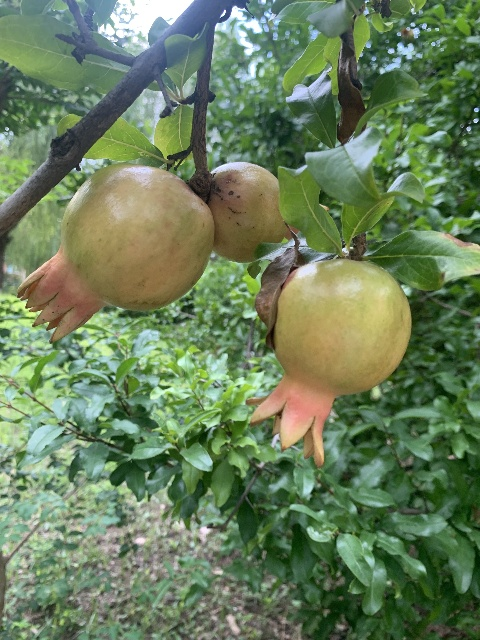mid-growth: (17, 162, 215, 344), (245, 257, 413, 469), (207, 163, 296, 262)
